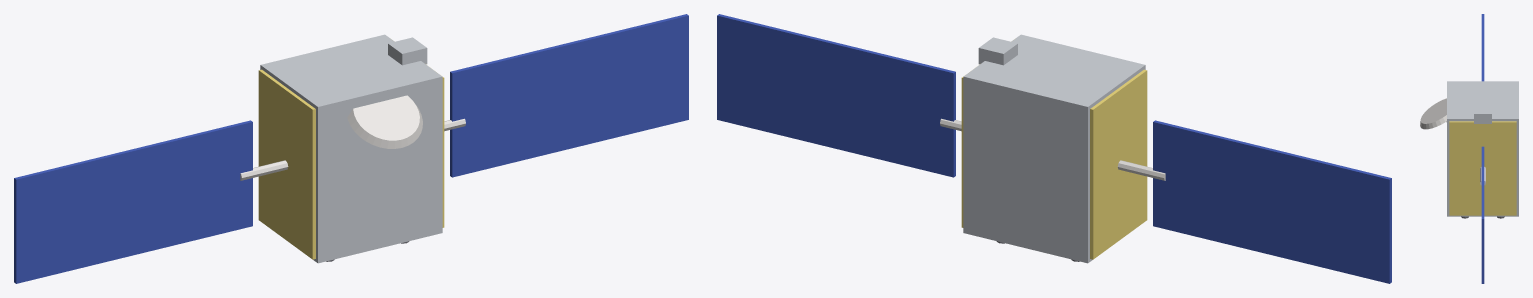
Rendered from satellite.glb.
The picture shows the model from 3 angles, left to right: view 1: azimuth 30°, elevation 25°; view 2: azimuth 150°, elevation 25°; view 3: azimuth 270°, elevation 25°; orthographic projection. The views are drawn at different scales.
Parts seen in each view (by area): view 1: Panel_L, Panel_R, Bus, MLI_L, HGA, StarTracker, Yoke_L, MLI_R; view 2: Bus, Panel_L, Panel_R, MLI_L, StarTracker, Yoke_L, MLI_R; view 3: MLI_R, Bus, HGA, Panel_R, StarTracker, Panel_L.
Boxes of the visible parts, <box> form: Panel_L: <box>14,120,252,283</box>; Panel_R: <box>450,14,688,177</box>; Bus: <box>260,34,442,263</box>; MLI_L: <box>258,69,315,259</box>; HGA: <box>347,95,422,148</box>; StarTracker: <box>388,37,427,65</box>; Yoke_L: <box>240,160,288,180</box>; MLI_R: <box>442,77,444,227</box>; Bus: <box>963,34,1145,263</box>; Panel_L: <box>1153,120,1391,283</box>; Panel_R: <box>717,14,955,177</box>; MLI_L: <box>1090,69,1147,259</box>; StarTracker: <box>978,37,1017,65</box>; Yoke_L: <box>1117,160,1165,180</box>; MLI_R: <box>961,77,963,227</box>; MLI_R: <box>1449,121,1516,215</box>; Bus: <box>1447,81,1518,216</box>; HGA: <box>1420,98,1446,129</box>; Panel_R: <box>1481,146,1484,283</box>; StarTracker: <box>1474,106,1491,123</box>; Panel_L: <box>1481,14,1484,81</box>.
Size of the model in its own units: 10.8 by 2.76 by 2.2.
